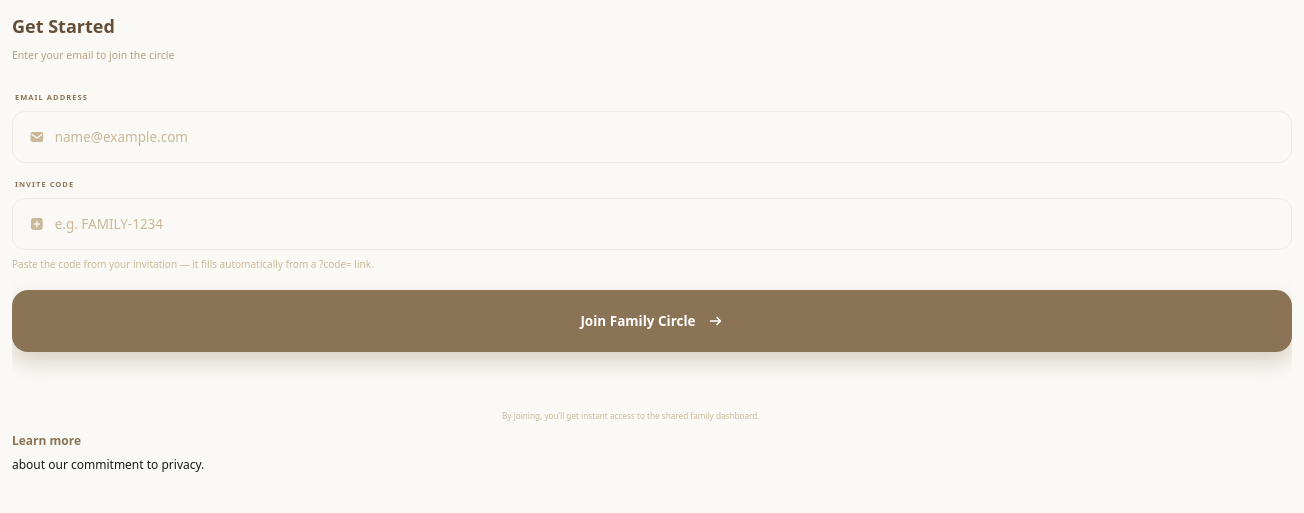
Test case: JoinFamilyForm › shows a validation error for an invalid email
Type "not-an-email" into the field labelled "EMAIL ADDRESS" at (665, 137), box [55, 112, 1275, 162]
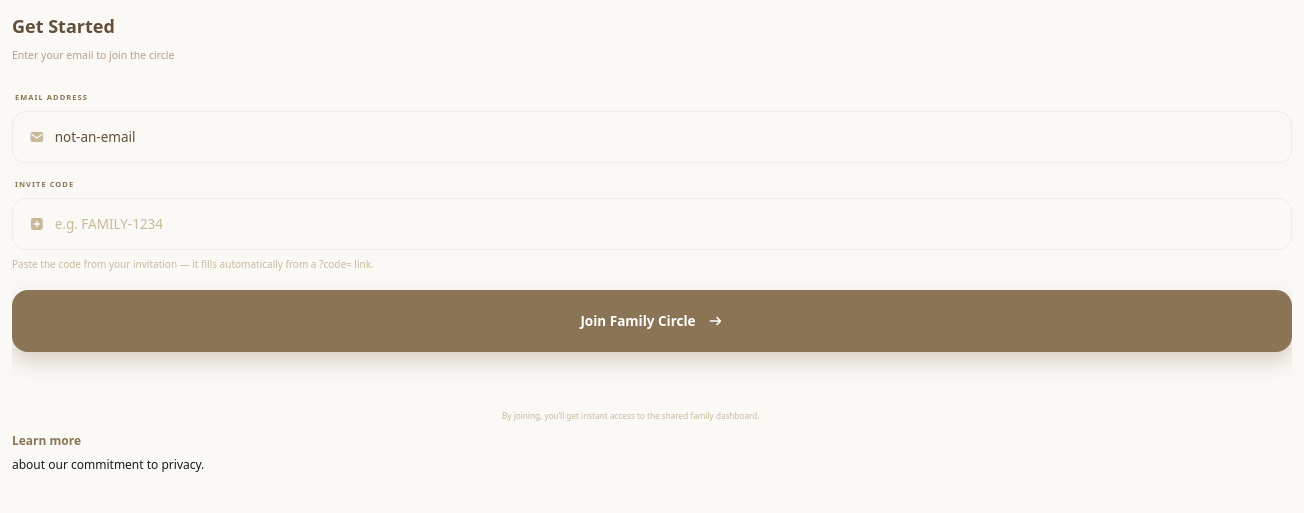
Click the button "Join Family Circle" at (652, 321), box [12, 290, 1292, 352]
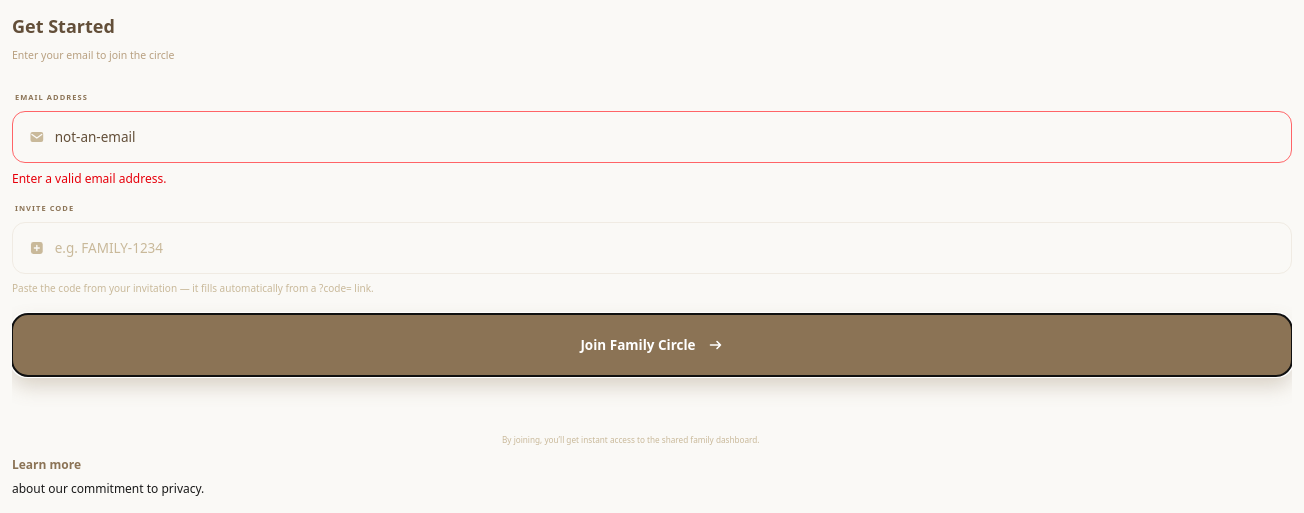
Expected: the message shows "valid email", [12, 170, 166, 187]
